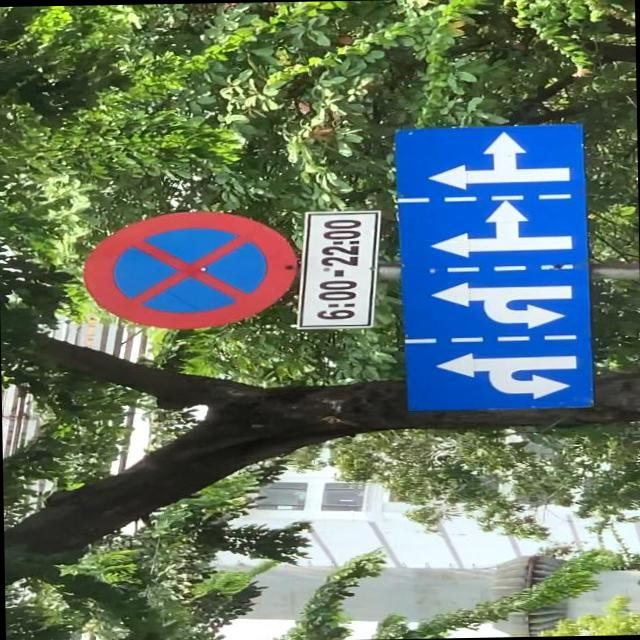P-130: (81, 208, 297, 330)
